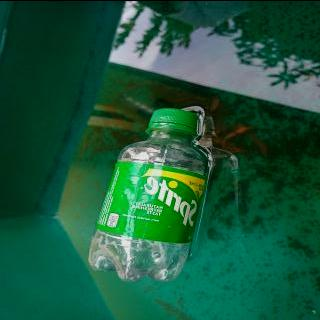bottle: (88, 107, 212, 280)
